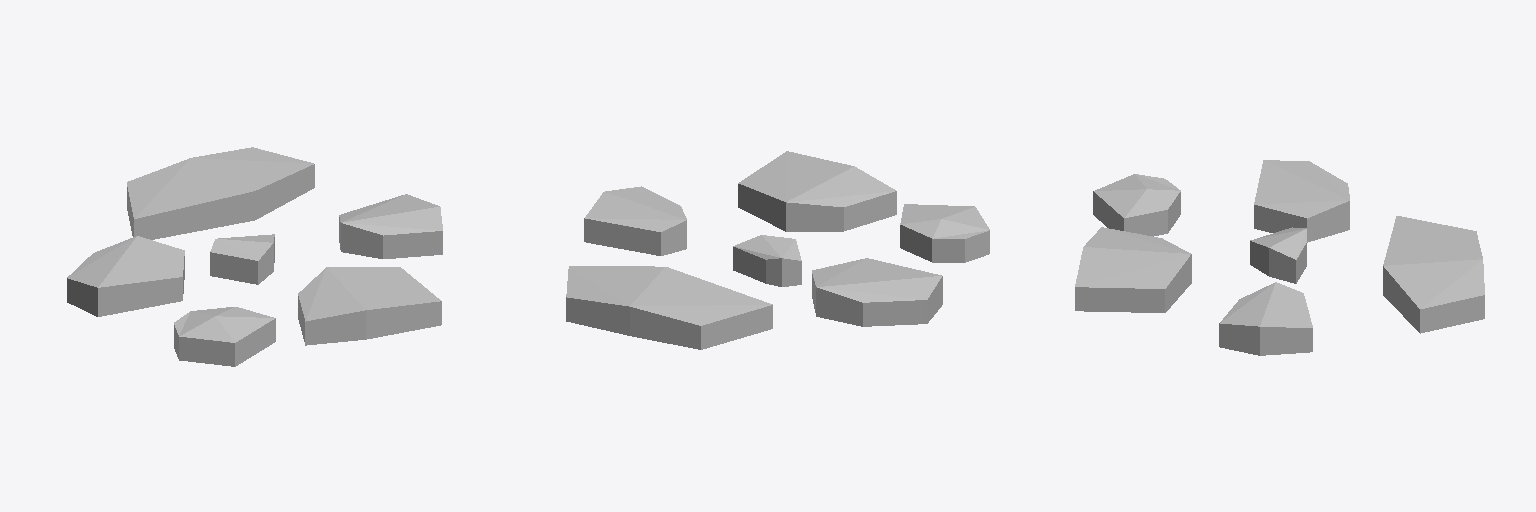
Rendered from cailloux_sol3.obj.
3 views of the same model, side by side, from view 1: azimuth 30°, elevation 25°; view 2: azimuth 150°, elevation 25°; view 3: azimuth 270°, elevation 25° (orthographic).
Parts seen in each view (by area): view 1: lilC:Path3; view 2: lilC:Path3; view 3: lilC:Path3.
Boxes of the visible parts, x1,y1,x2,y2 form: lilC:Path3: [67, 147, 442, 366]; lilC:Path3: [566, 151, 989, 349]; lilC:Path3: [1075, 160, 1484, 355].
Size of the model in its own units: 1.26 by 0.1027 by 1.29.